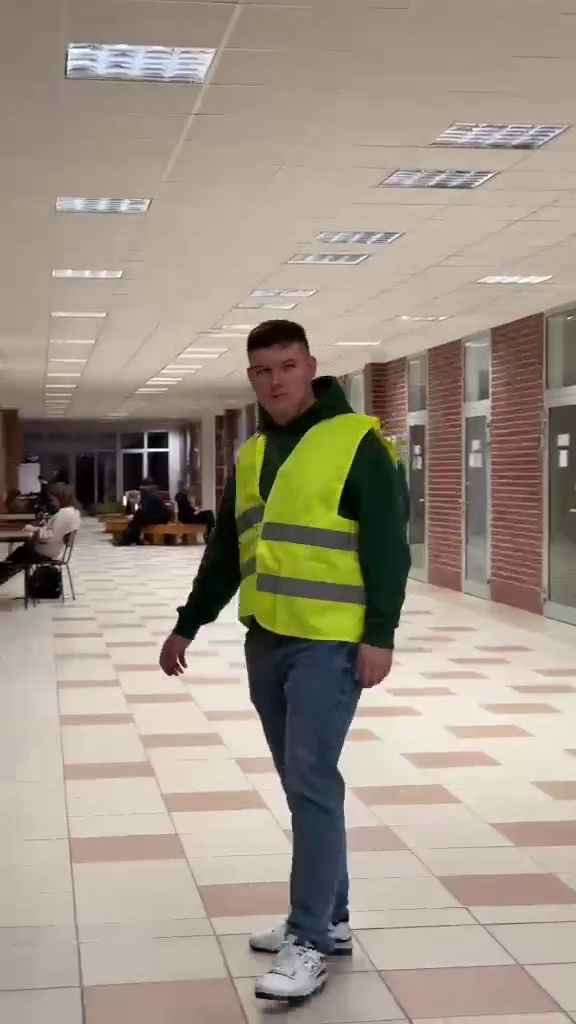no vest: (0, 475, 87, 597)
vest: (168, 324, 414, 1003)
